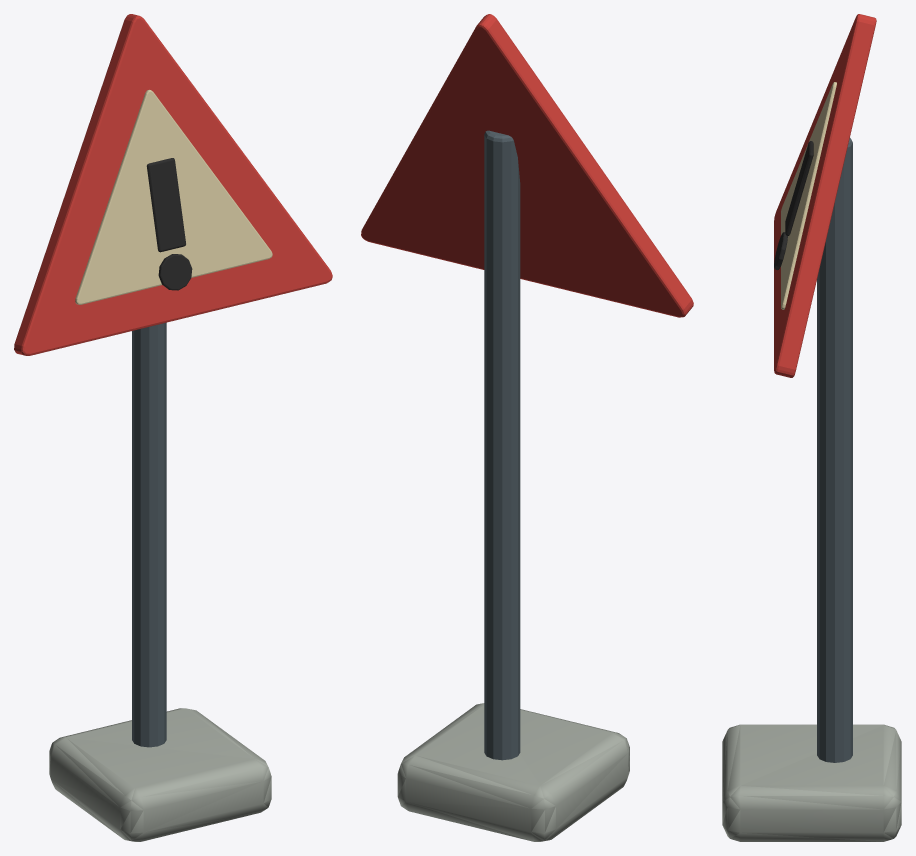
The model's file is warning_sign.glb.
The picture shows the model from 3 angles, left to right: view 1: azimuth 30°, elevation 25°; view 2: azimuth 150°, elevation 25°; view 3: azimuth 270°, elevation 25°; orthographic projection. The views are drawn at different scales.
Visible parts, largest first — view 1: Occlude_Sign_Mesh, Keep_Mesh; view 2: Keep_Mesh, Occlude_Sign_Mesh; view 3: Keep_Mesh, Occlude_Sign_Mesh.
Boxes of the visible parts, x1=… form: Occlude_Sign_Mesh: x1=14, y1=14, x2=332, y2=355; Keep_Mesh: x1=49, y1=322, x2=271, y2=841; Keep_Mesh: x1=397, y1=130, x2=629, y2=841; Occlude_Sign_Mesh: x1=361, y1=14, x2=693, y2=317; Keep_Mesh: x1=722, y1=138, x2=901, y2=841; Occlude_Sign_Mesh: x1=774, y1=14, x2=876, y2=377.
Bounding box in the file's own units: 0.7269 × 1.72 × 0.35.
